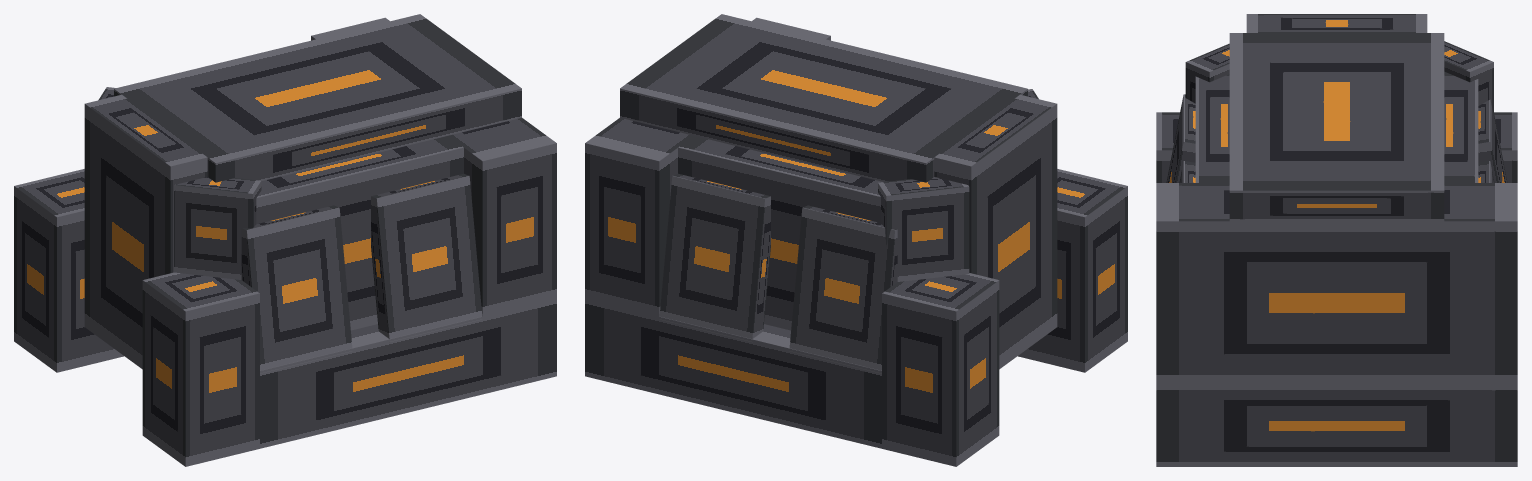
The model's file is alloy_smelter_east.obj.
The picture shows the model from 3 angles, left to right: view 1: azimuth 30°, elevation 25°; view 2: azimuth 150°, elevation 25°; view 3: azimuth 270°, elevation 25°; orthographic projection. The views are drawn at different scales.
Visible parts, largest first — view 1: mesh; view 2: mesh; view 3: mesh.
Boxes of the visible parts, x1,y1,x2,y2 form: mesh: (14,14,556,466); mesh: (585,14,1127,466); mesh: (1156,14,1517,466).
Bounding box in the file's own units: 5 × 3.38 × 4.
